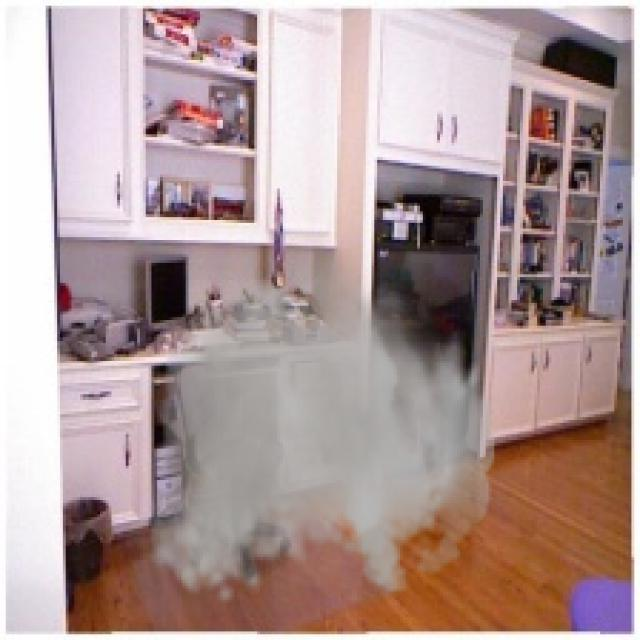Smoke: (146, 231, 494, 606)
